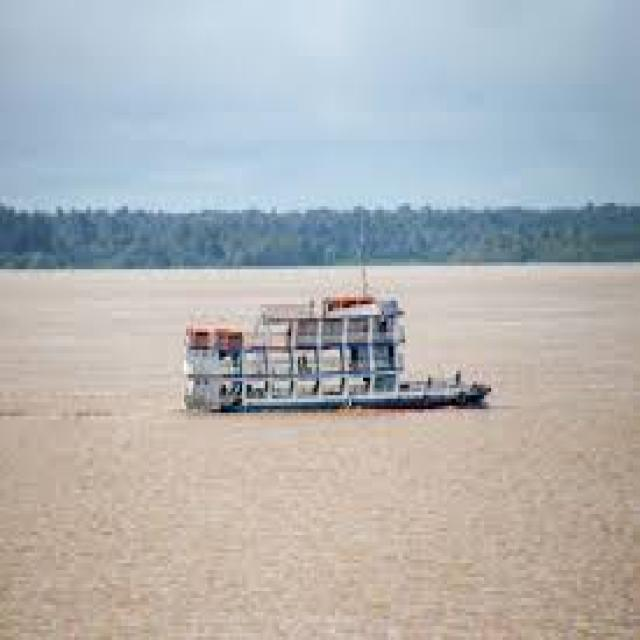houseboat: (155, 269, 493, 442)
